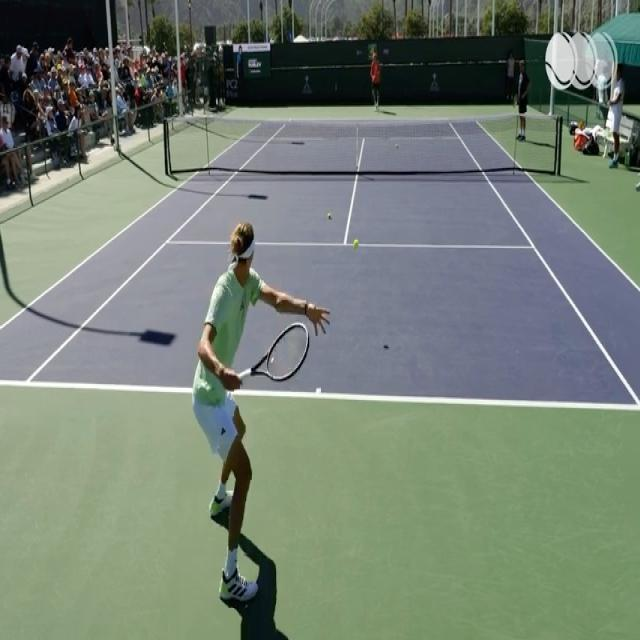forehand-ready: (191, 225, 330, 602)
